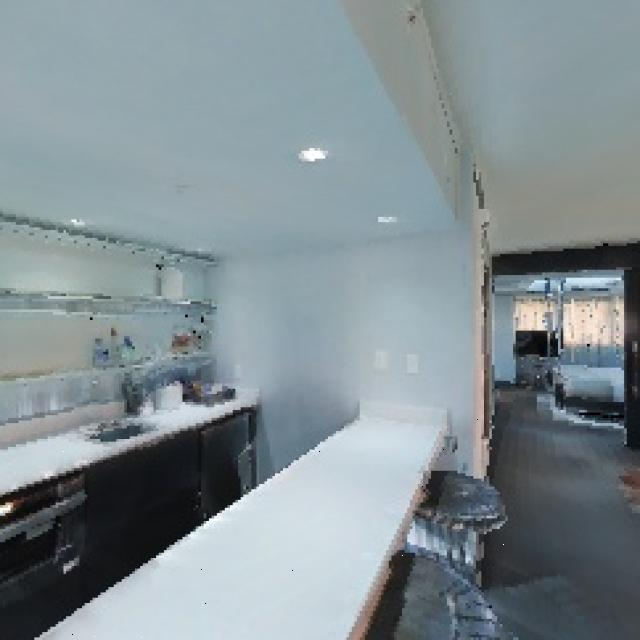chair: (400, 470, 522, 591)
table: (21, 391, 497, 640)
